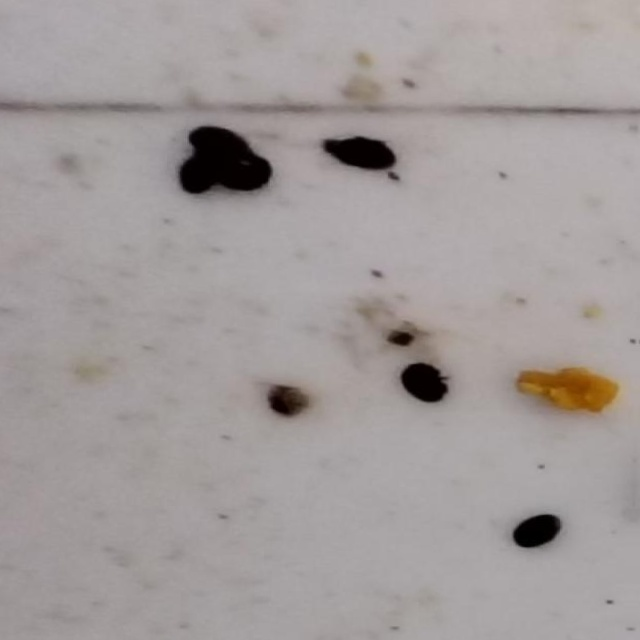varroa: (319, 137, 398, 173), (180, 123, 253, 159), (398, 363, 451, 408), (218, 155, 276, 196), (512, 513, 562, 553), (176, 155, 223, 193)
